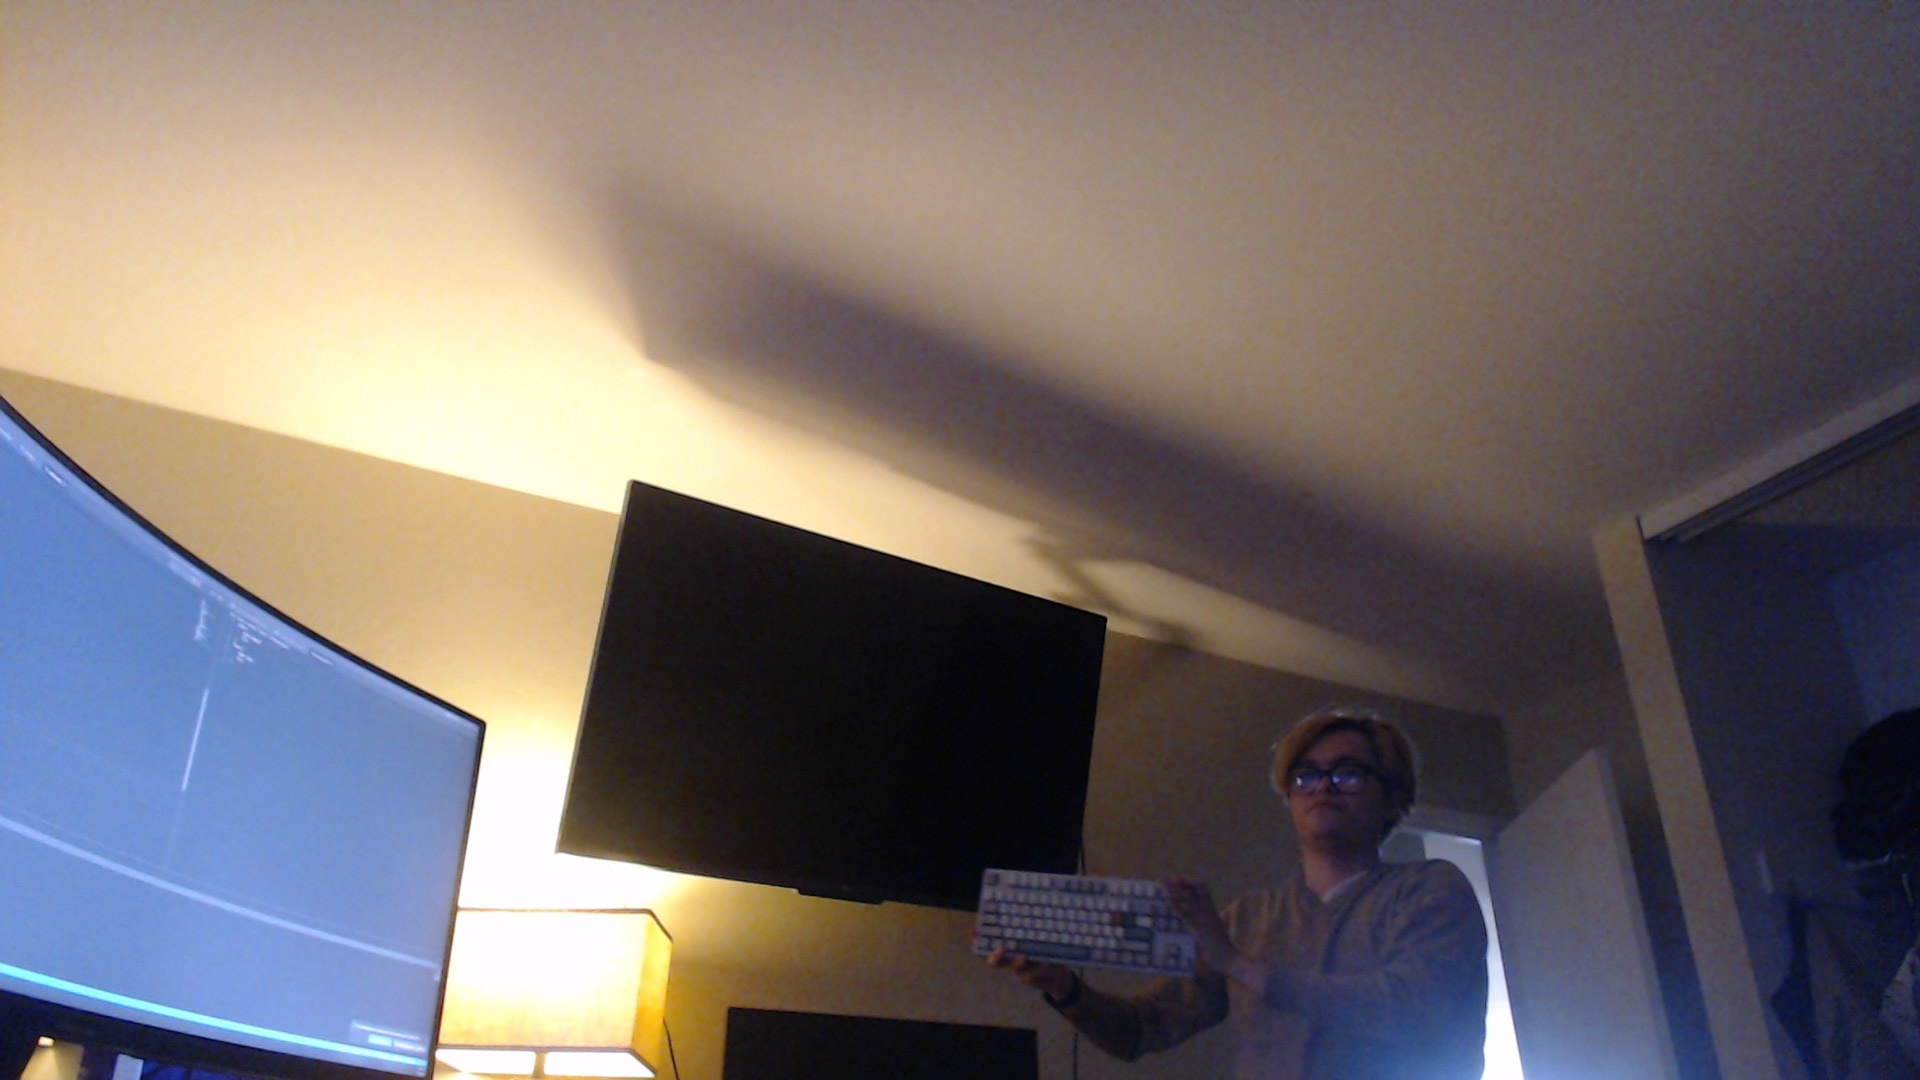keyboard: (964, 865, 1201, 985)
